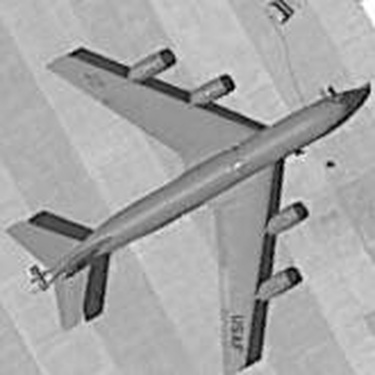airplane: (4, 17, 373, 372)
